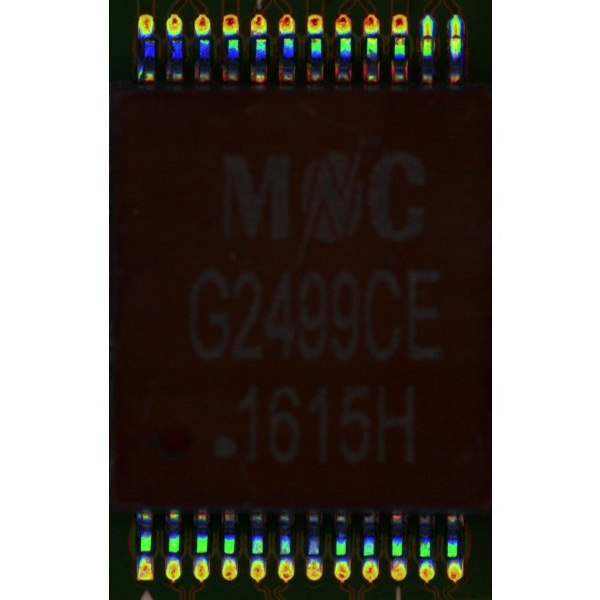Bad_podu: (450, 25, 458, 44), (424, 23, 430, 46)
